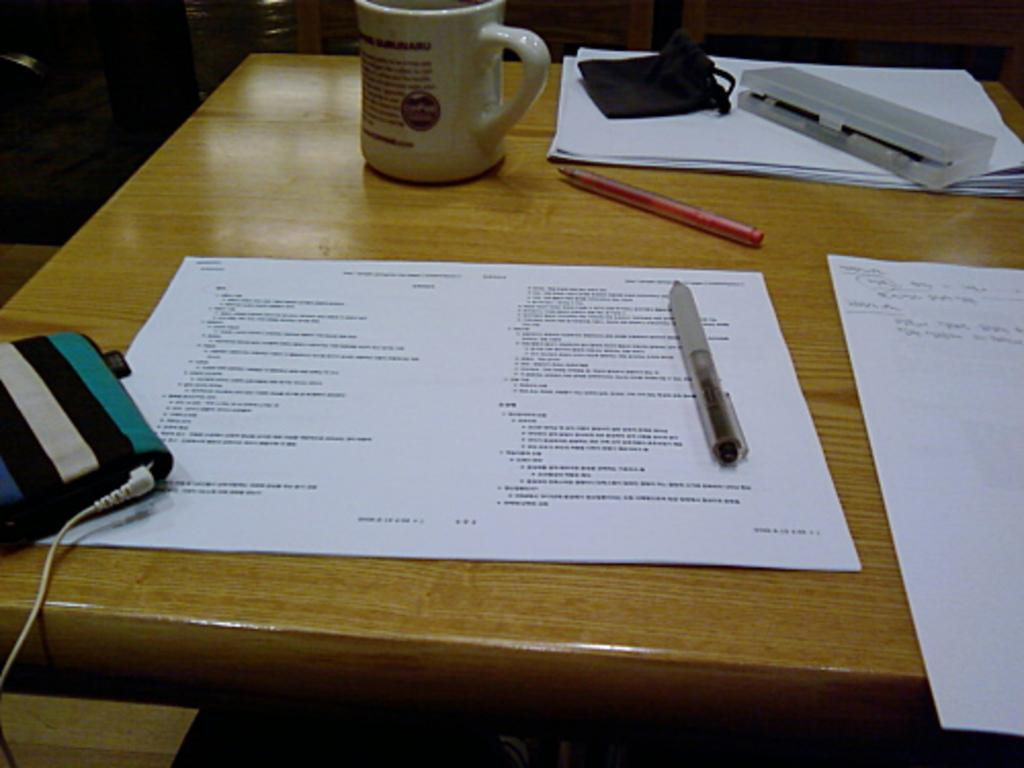Computer-mouse: (0, 324, 175, 549)
